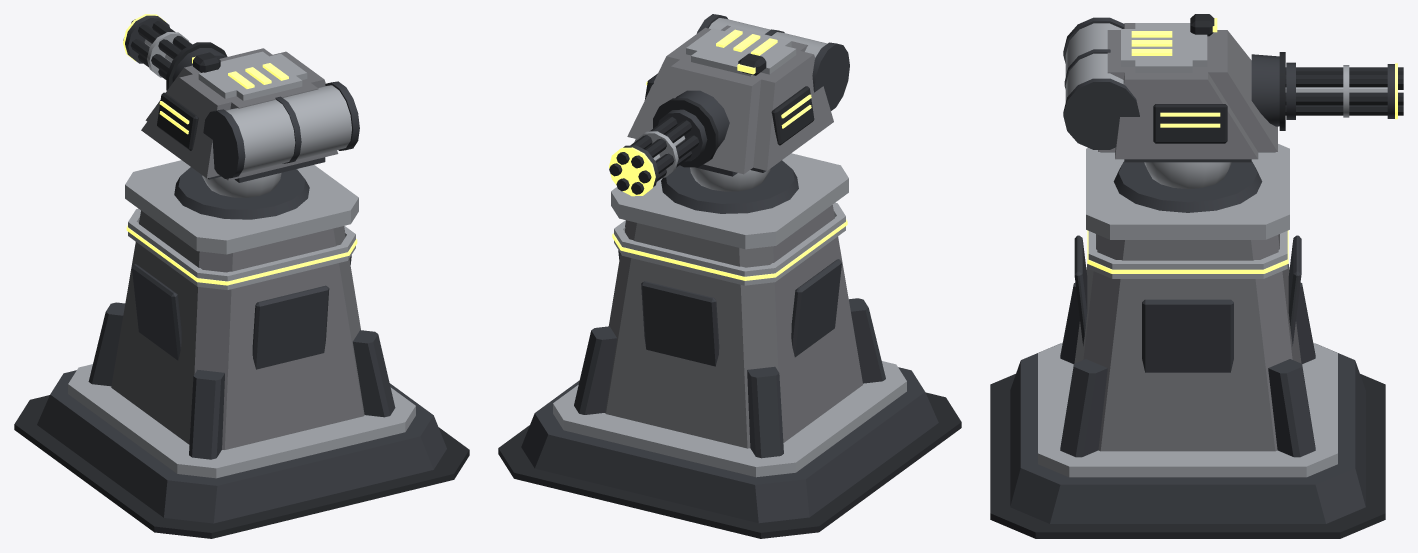
File: Tower_T2_Minigun.fbx
The picture shows the model from 3 angles, left to right: view 1: azimuth 30°, elevation 25°; view 2: azimuth 150°, elevation 25°; view 3: azimuth 270°, elevation 25°; orthographic projection. The views are drawn at different scales.
Visible parts, largest first — view 1: MG_Core, MG_Base, MG_Base_Plate, MG_Collar, MG_Base_Skirt, MG_Magazine, MG_Turret_Hull, MG_Core_Plate_1, MG_Rotation_Plate, MG_Core_Band, MG_Core_Plate_3, MG_Turret_Roof (+10 smaller); view 2: MG_Core, MG_Base, MG_Turret_Hull, MG_Base_Plate, MG_Base_Skirt, MG_Collar, MG_Core_Plate_0, MG_Rotation_Plate, MG_Core_Band, MG_Core_Plate_3, MG_Brace_1, MG_Turret_Roof (+14 smaller); view 3: MG_Core, MG_Base, MG_Base_Plate, MG_Base_Skirt, MG_Turret_Hull, MG_Collar, MG_Core_Plate_2, MG_Rotation_Plate, MG_Magazine_Cap_R, MG_Brace_3, MG_Brace_0, MG_Core_Band (+18 smaller).
Part boxes in pixels (box(x1,y1,x2,y2)): MG_Core: box(111, 210, 364, 449); MG_Base: box(37, 370, 446, 523); MG_Base_Plate: box(68, 364, 415, 478); MG_Collar: box(125, 160, 358, 254); MG_Base_Skirt: box(14, 395, 469, 538); MG_Magazine: box(225, 85, 351, 173); MG_Turret_Hull: box(141, 48, 338, 180); MG_Core_Plate_1: box(252, 285, 329, 369); MG_Rotation_Plate: box(174, 167, 309, 219); MG_Core_Band: box(128, 208, 355, 289); MG_Core_Plate_3: box(132, 264, 181, 360); MG_Turret_Roof: box(198, 51, 307, 100); MG_Core: box(605, 205, 862, 448); MG_Base: box(521, 367, 938, 523); MG_Turret_Hull: box(627, 25, 833, 174); MG_Base_Plate: box(553, 361, 906, 477); MG_Base_Skirt: box(498, 392, 961, 538); MG_Collar: box(611, 153, 848, 249); MG_Core_Plate_0: box(641, 281, 719, 366); MG_Rotation_Plate: box(661, 160, 798, 213); MG_Core_Band: box(614, 202, 845, 285); MG_Core_Plate_3: box(791, 259, 841, 357); MG_Brace_1: box(747, 366, 783, 458); MG_Turret_Roof: box(686, 26, 796, 76); MG_Core: box(1074, 234, 1301, 451); MG_Base: box(1010, 343, 1365, 523); MG_Base_Plate: box(1038, 343, 1337, 477); MG_Base_Skirt: box(990, 374, 1385, 538); MG_Turret_Hull: box(1098, 23, 1277, 159); MG_Collar: box(1086, 144, 1289, 239); MG_Core_Plate_2: box(1142, 299, 1233, 372); MG_Rotation_Plate: box(1113, 161, 1262, 212); MG_Magazine_Cap_R: box(1063, 78, 1139, 149); MG_Brace_3: box(1060, 359, 1107, 457); MG_Brace_0: box(1268, 359, 1315, 457); MG_Core_Band: box(1088, 231, 1287, 278).
Bounding box in the file's own units: 3.3 × 3.89 × 3.45.
